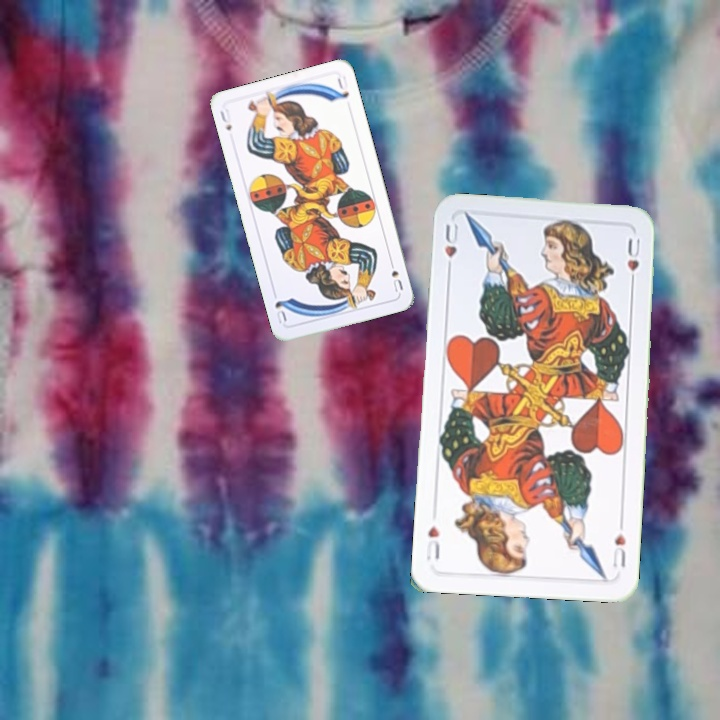HU: (440, 220, 461, 277), (608, 529, 629, 571)
SU: (385, 255, 406, 295), (216, 105, 234, 133)
